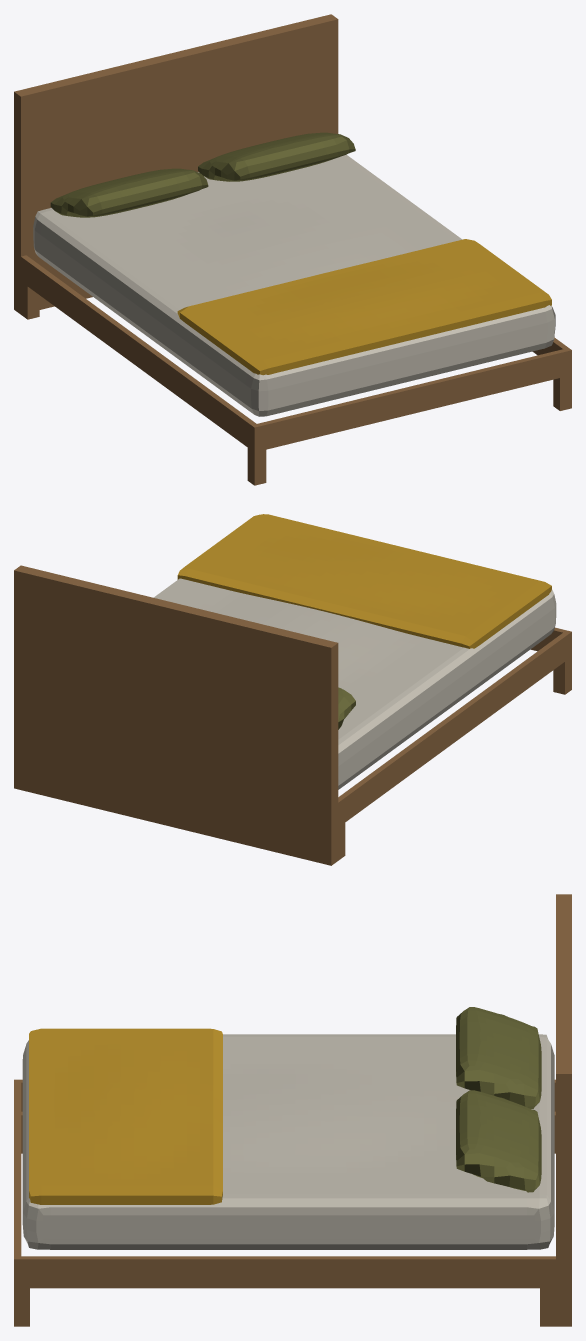
The model's file is ATL-BED-queen.glb.
3 renders of one model, top to bottom at view 1: azimuth 30°, elevation 25°; view 2: azimuth 150°, elevation 25°; view 3: azimuth 270°, elevation 25°, orthographic. The views are drawn at different scales.
Visible parts, largest first — view 1: mattress:pbr, head:pbr, throw:pbr, foot:pbr, rail-l:pbr, pillow-l:pbr, pillow-r:pbr, leg-fl:pbr, leg-fr:pbr; view 2: head:pbr, throw:pbr, mattress:pbr, rail-l:pbr, leg-fl:pbr, pillow-l:pbr; view 3: mattress:pbr, throw:pbr, rail-r:pbr, pillow-r:pbr, pillow-l:pbr, head:pbr, foot:pbr, leg-hr:pbr, leg-fr:pbr.
Part boxes in pixels (<box>): mattress:pbr: <box>33,154,555,416</box>; head:pbr: <box>14,14,338,314</box>; throw:pbr: <box>177,239,551,375</box>; foot:pbr: <box>257,349,566,450</box>; rail-l:pbr: <box>21,255,259,452</box>; pillow-l:pbr: <box>50,168,208,217</box>; pillow-r:pbr: <box>198,132,355,181</box>; leg-fl:pbr: <box>247,448,266,485</box>; leg-fr:pbr: <box>553,375,571,410</box>; head:pbr: <box>14,565,338,865</box>; throw:pbr: <box>177,514,551,648</box>; mattress:pbr: <box>153,578,556,789</box>; rail-l:pbr: <box>338,630,571,827</box>; leg-fl:pbr: <box>553,657,571,694</box>; pillow-l:pbr: <box>338,687,355,729</box>; mattress:pbr: <box>22,1034,554,1249</box>; throw:pbr: <box>29,1028,222,1204</box>; rail-r:pbr: <box>14,1256,555,1288</box>; pillow-r:pbr: <box>456,1090,541,1192</box>; pillow-l:pbr: <box>456,1007,541,1108</box>; head:pbr: <box>556,894,571,1326</box>; foot:pbr: <box>14,1082,21,1256</box>; leg-hr:pbr: <box>540,1288,555,1326</box>; leg-fr:pbr: <box>14,1288,29,1326</box>.
Size of the model in its own units: 1.6 by 1.05 by 2.1.
